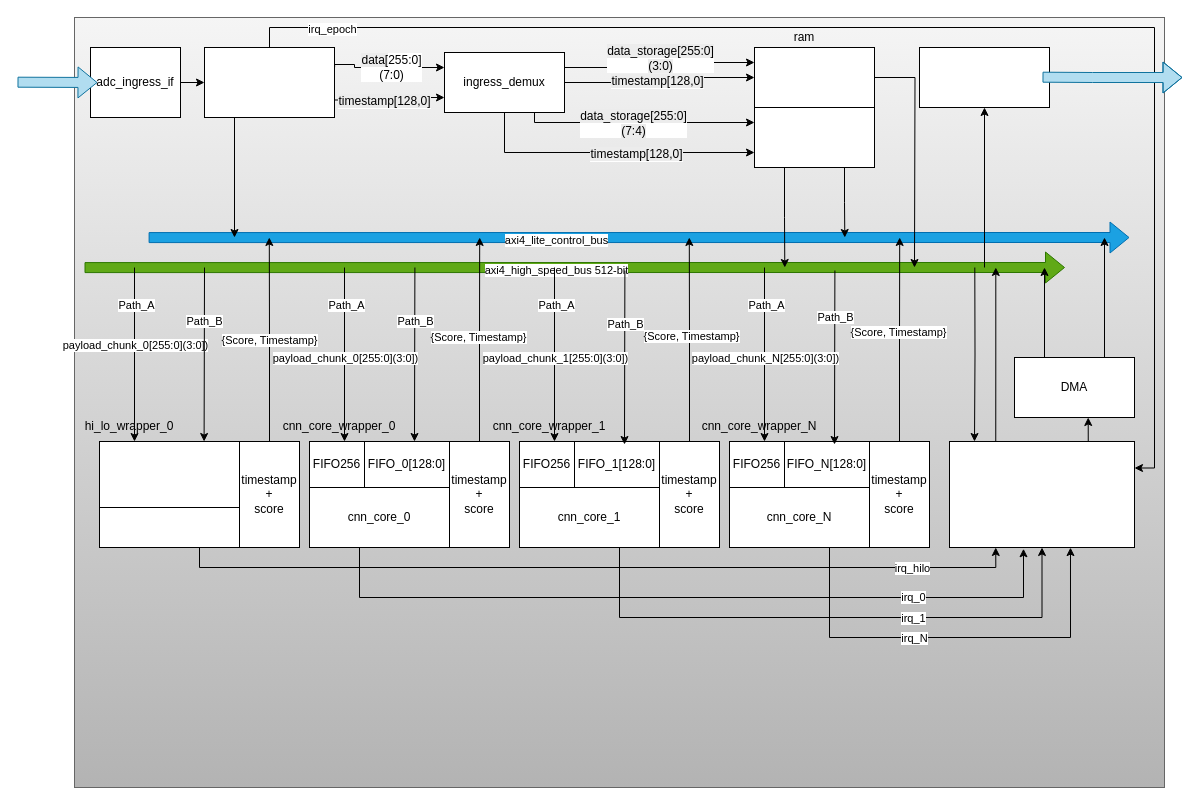
The diagram is 1200 pixels wide and 805 high, and some of its shapes have lost their labels. The shapes that lost their labels are listed below. From the top down, each one's box as (x1, y1, x2, y2) in pixels, then its label:
(204, 46, 334, 118): ts_generator
(754, 46, 874, 108): bank_0
(918, 46, 1050, 108): backend_tx_if
(754, 106, 874, 168): bank_1
(98, 440, 240, 508): hi_lo_trigger
(948, 440, 1134, 548): PicoRV32_CPU
(98, 506, 240, 548): packing_transmitter
